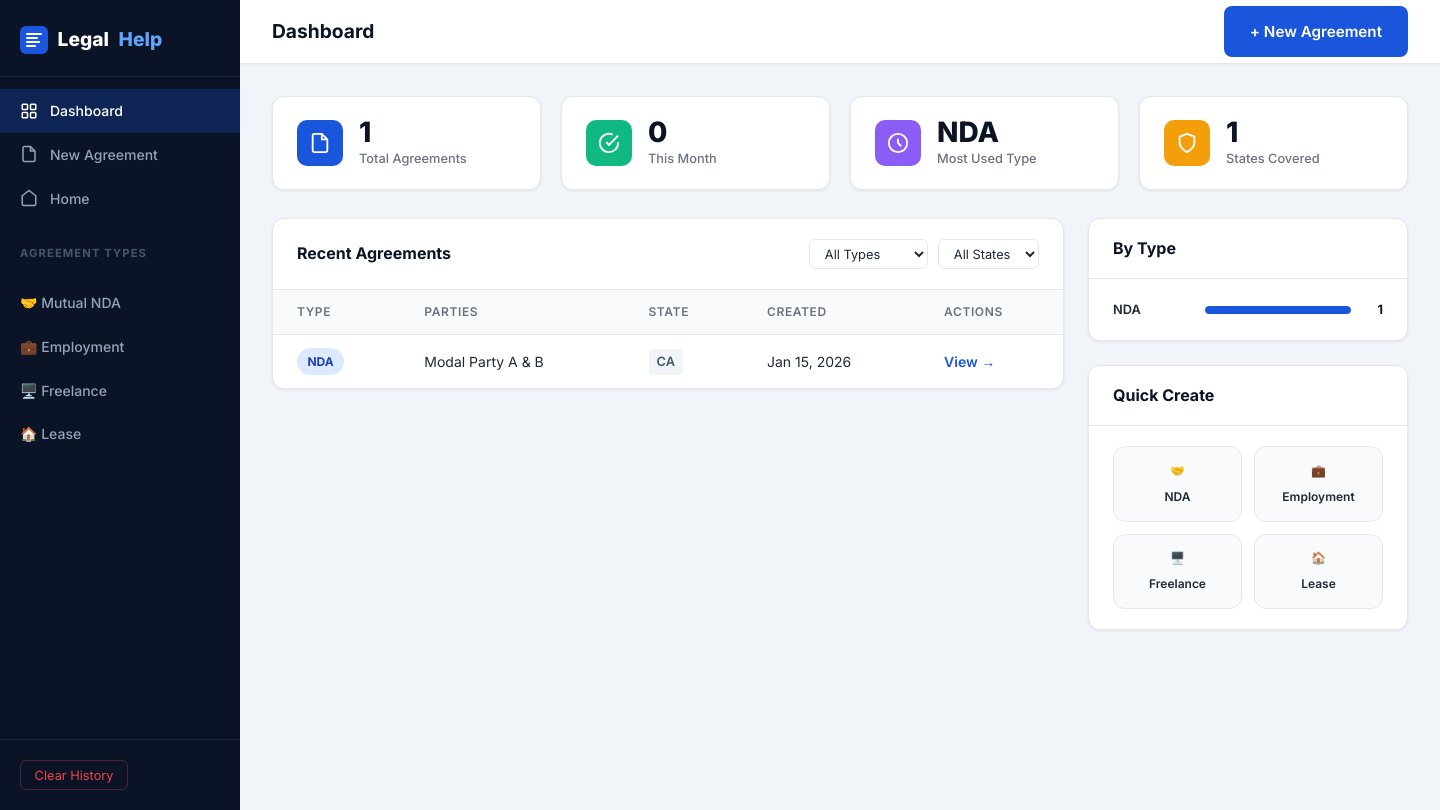
Test: DashboardClient — modal › shows toast after copy
The width and height of the screenshot is (1440, 810).
What coordinates should you click on to do the following:
click the button "View →"
I would click on:
 (970, 362)
Its box is [944,353,995,370].
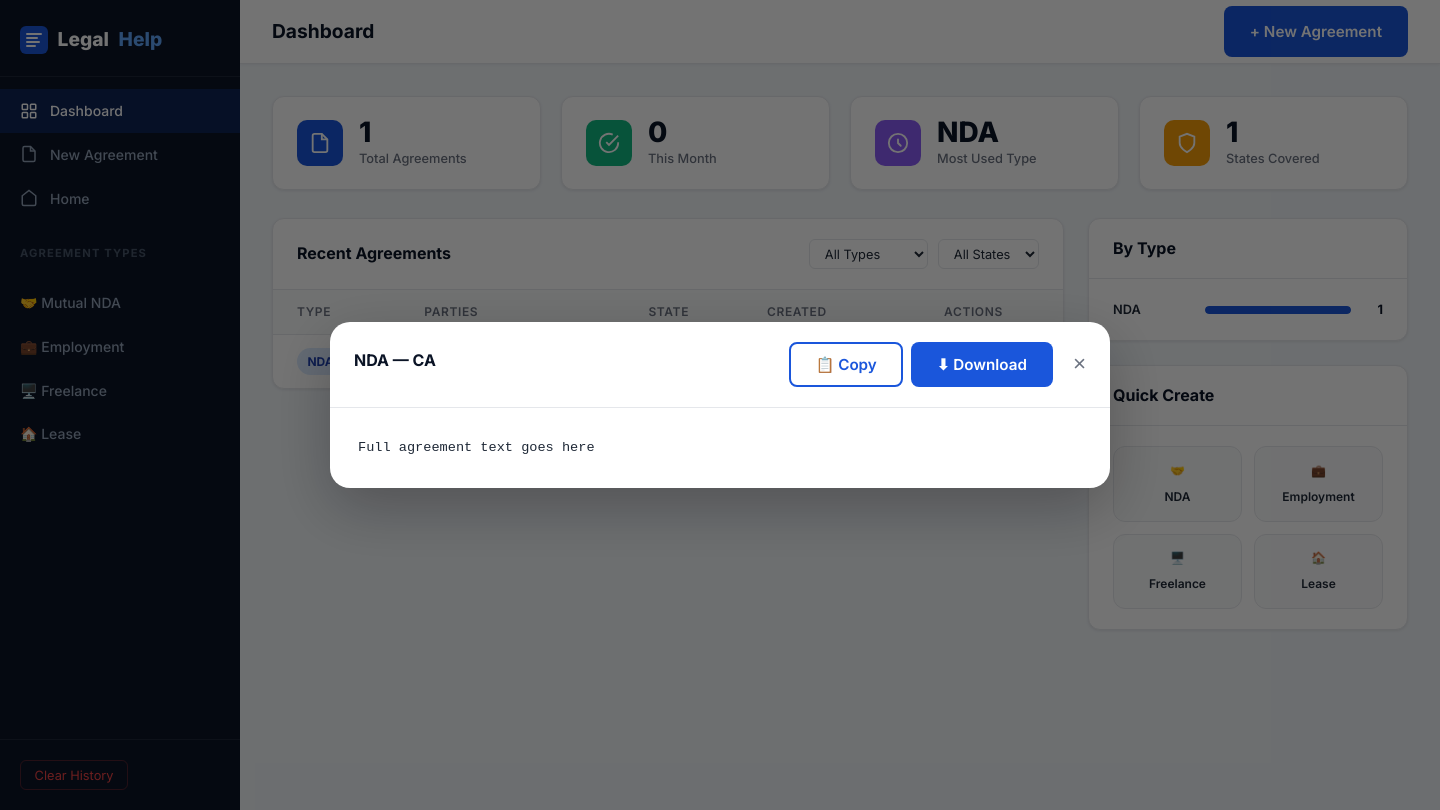
Expected: the button "📋 Copy" is shown
What coordinates should you click on to do the following:
click the button "📋 Copy"
I would click on:
 (846, 364)
Its box is [789,342,903,387].
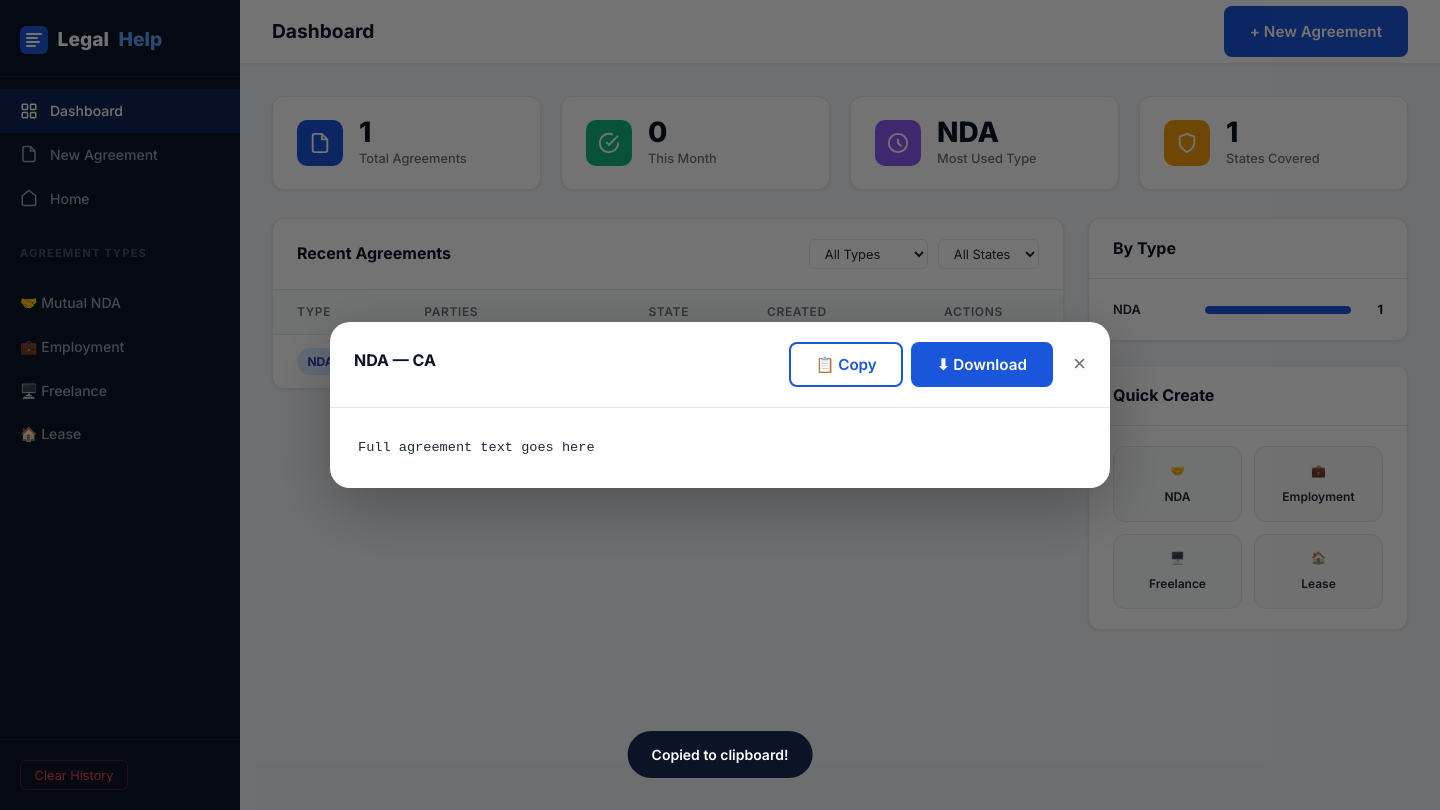
Expected: the text "Copied to clipboard!" is shown, [628,731,812,778]
